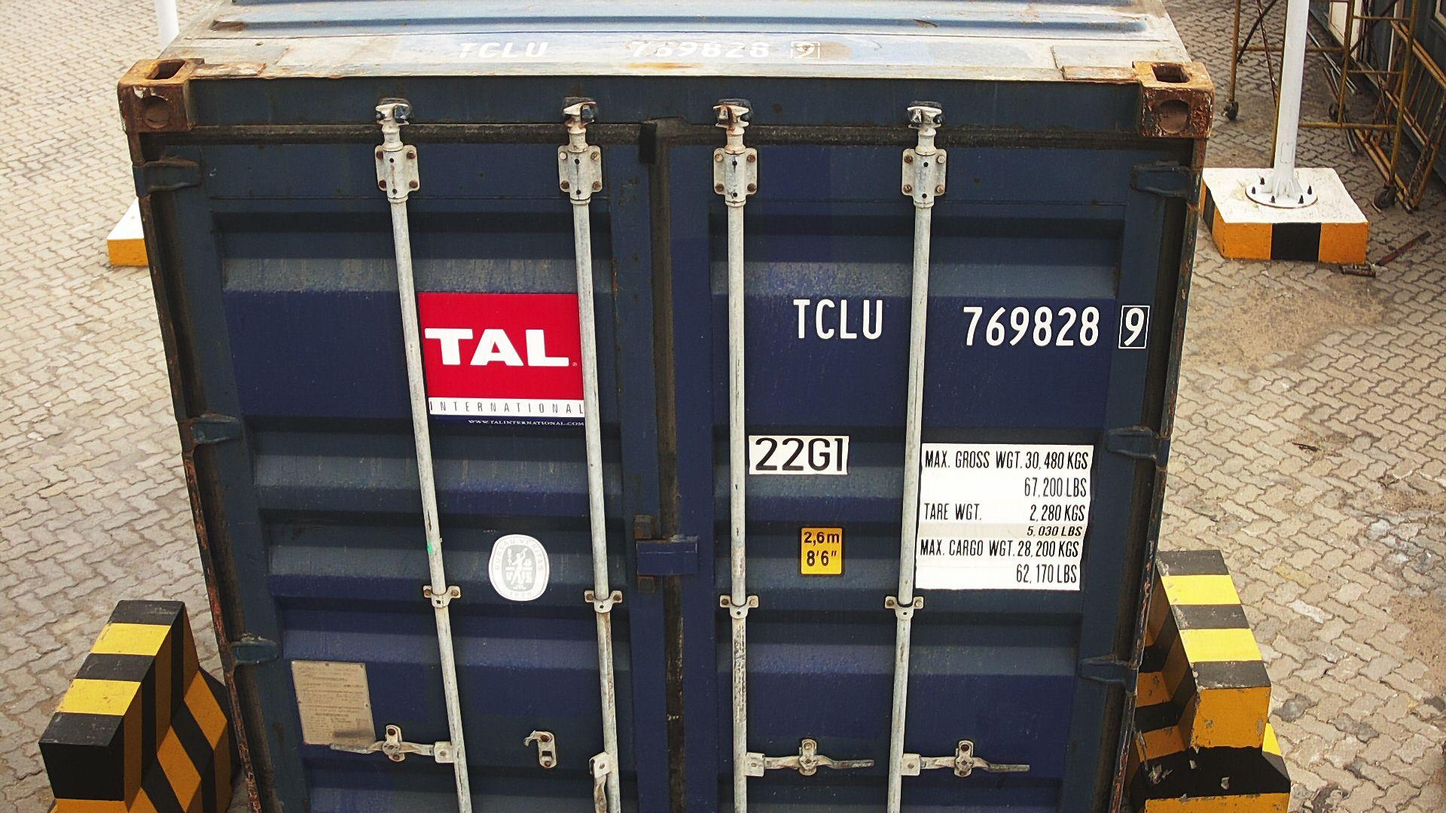container-numbers: (792, 297, 1157, 355)
